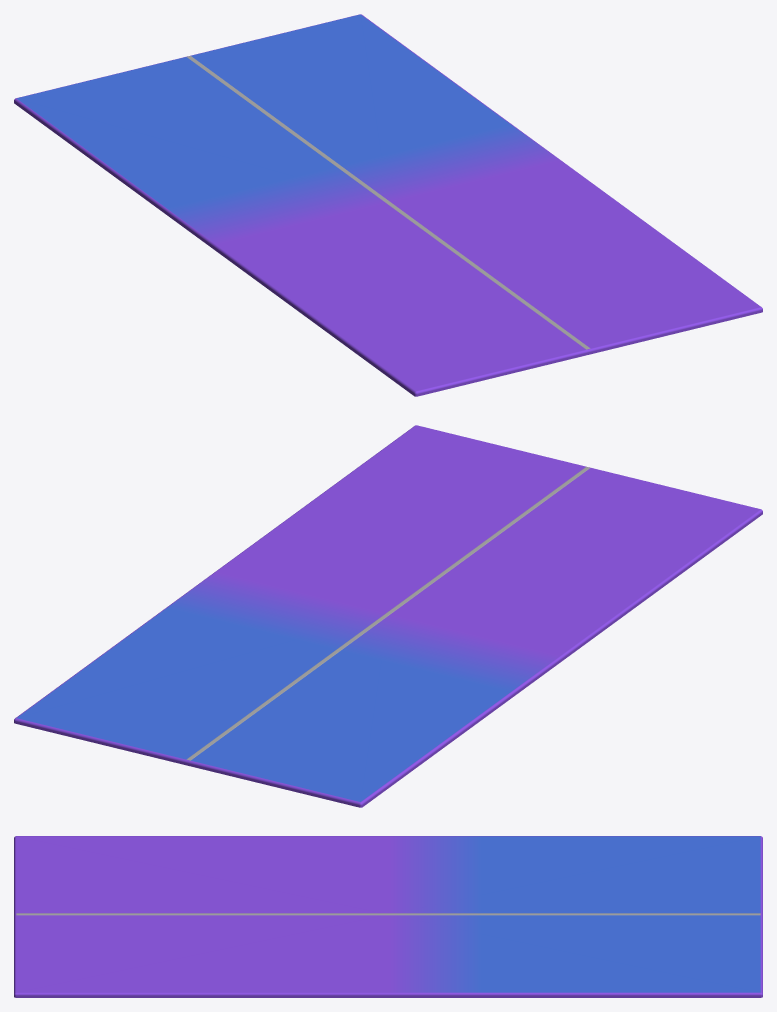
The model's file is Holdnote.glb.
3 views of the same model, one above another, from view 1: azimuth 30°, elevation 25°; view 2: azimuth 150°, elevation 25°; view 3: azimuth 270°, elevation 25° (orthographic). The views are drawn at different scales.
Visible parts, largest first — view 1: NoteBase, Line; view 2: NoteBase, Line; view 3: NoteBase, Line.
Boxes of the visible parts, left/top/right/bottom form: NoteBase: left=14, top=14, right=762, bottom=396; Line: left=187, top=56, right=590, bottom=349; NoteBase: left=14, top=425, right=762, bottom=807; Line: left=186, top=467, right=589, bottom=760; NoteBase: left=14, top=836, right=762, bottom=997; Line: left=16, top=913, right=760, bottom=915.
Size of the model in its own units: 4 by 0.052 by 8.
2 materials, 1 textured.
